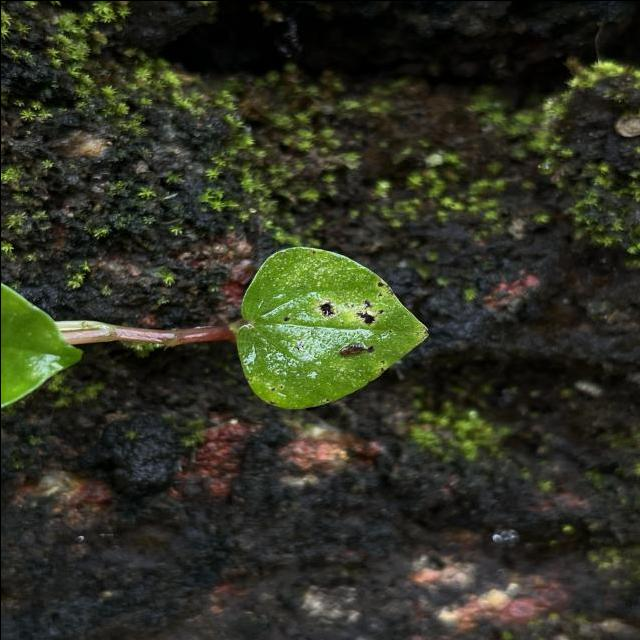Peperomia pellucida: (234, 244, 431, 411)
